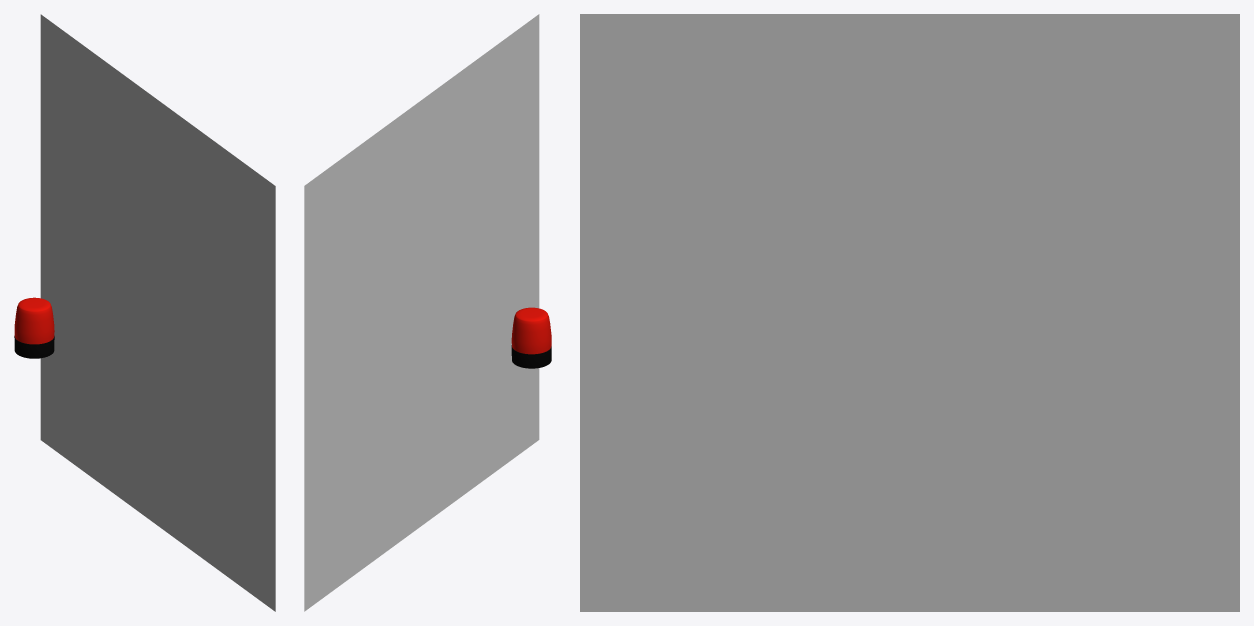
The model's file is beacon.fbx.
3 renders of one model, left to right at view 1: azimuth 30°, elevation 25°; view 2: azimuth 150°, elevation 25°; view 3: azimuth 270°, elevation 25°, orthographic. The views are drawn at different scales.
Visible parts, largest first — view 1: Plane, Cylinder.001, Cylinder; view 2: Plane, Cylinder.001, Cylinder; view 3: Plane.
Boxes of the visible parts, x1,y1,x2,y2 form: Plane: (40,14,275,611); Cylinder.001: (14,297,54,344); Cylinder: (14,336,54,358); Plane: (304,14,539,611); Cylinder.001: (511,307,551,354); Cylinder: (511,345,551,368); Plane: (580,14,1239,611).
Size of the model in its own units: 779 by 2364 by 2364.
